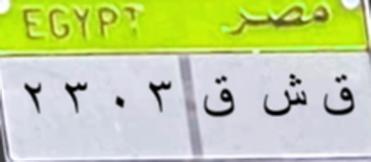0: (105, 89, 130, 118)
2: (18, 74, 50, 119)
3: (58, 78, 94, 124), (144, 70, 174, 122)
qaaf: (198, 73, 240, 125), (322, 73, 356, 125)
sheen: (257, 68, 310, 126)
